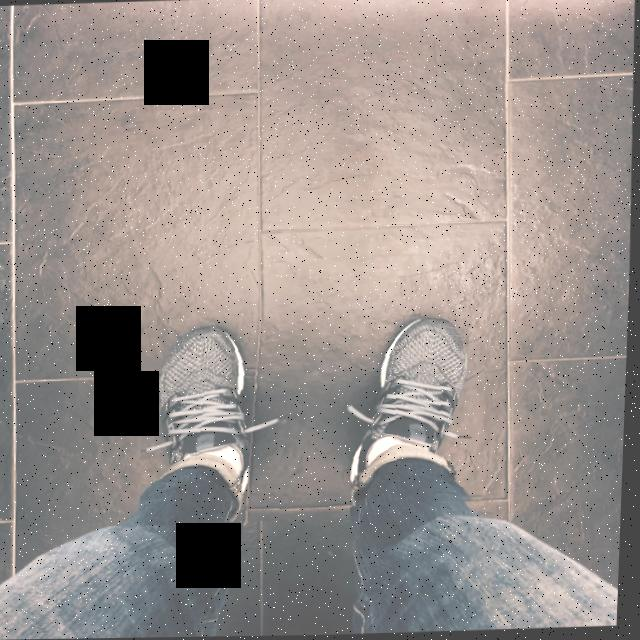shoe: (140, 314, 303, 526), (323, 305, 491, 510)
